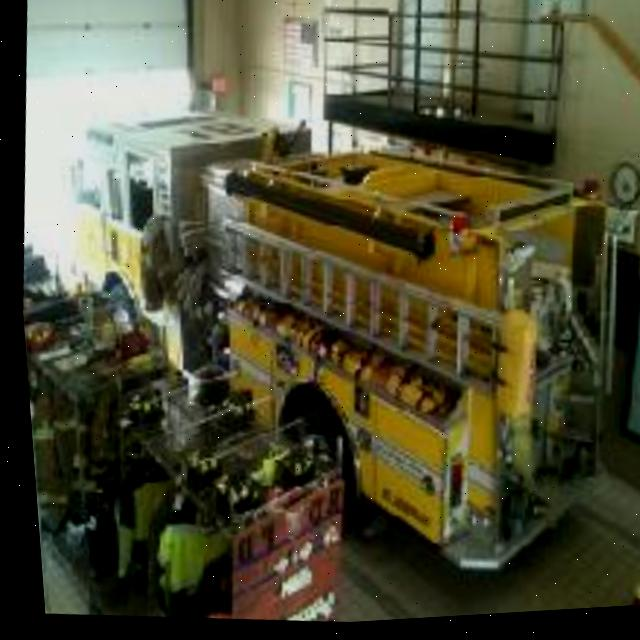emergency: (25, 86, 594, 524)
